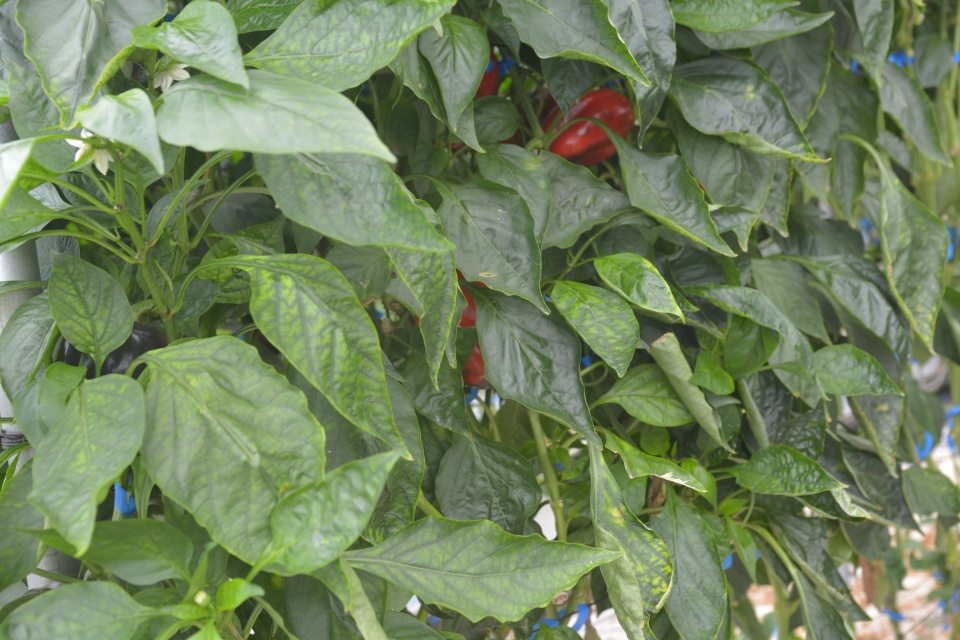flower: (64, 128, 122, 176), (155, 56, 190, 93)
fruit: (417, 270, 497, 392), (540, 88, 635, 165), (56, 320, 167, 378)
